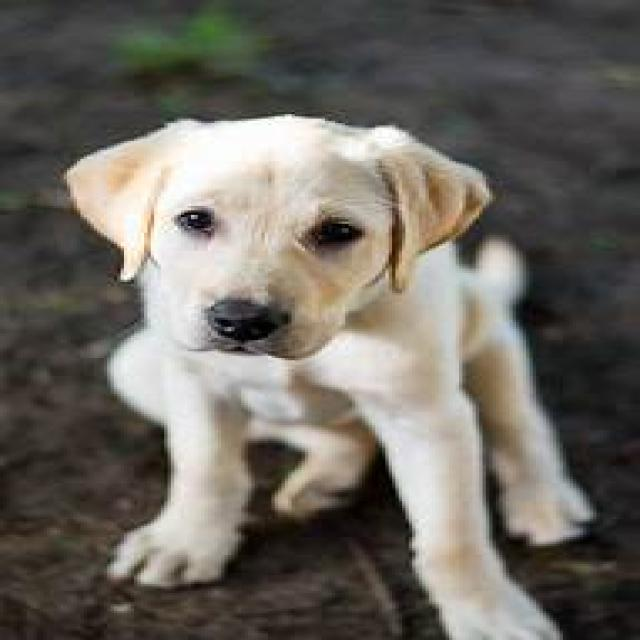dog: (64, 113, 595, 640)
